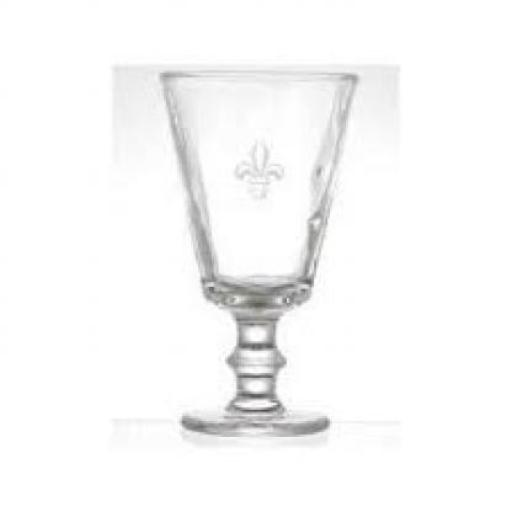glass: (157, 69, 355, 434)
